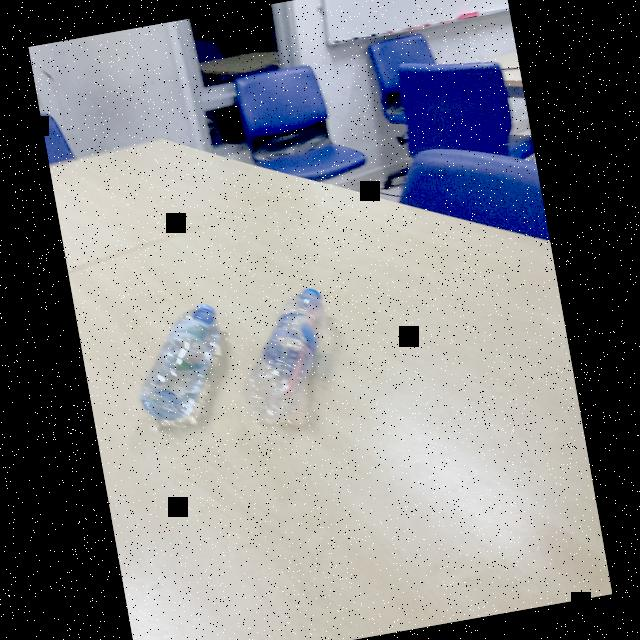plastic_bottle: (229, 283, 347, 429), (126, 300, 237, 423)
plastic_bottle_cap: (296, 285, 325, 314), (193, 302, 218, 328)
